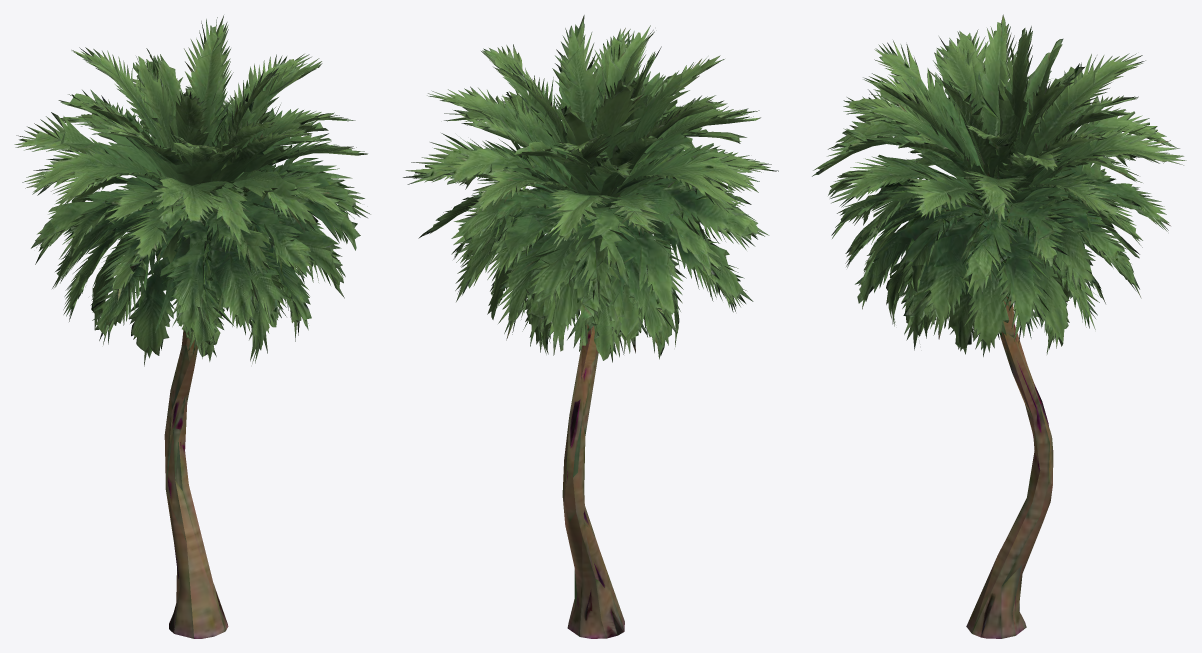
Rendered from tree-palm-a.glb.
3 views of the same model, side by side, from view 1: azimuth 30°, elevation 25°; view 2: azimuth 150°, elevation 25°; view 3: azimuth 270°, elevation 25° (orthographic).
Parts seen in each view (by area): view 1: Mesh_0; view 2: Mesh_0; view 3: Mesh_0.
Boxes of the visible parts, x1,y1,x2,y2 form: Mesh_0: (14,15,370,638); Mesh_0: (403,15,778,638); Mesh_0: (812,14,1186,638).
Size of the model in its own units: 7.04 by 12 by 7.06.
1 material, 1 textured.
